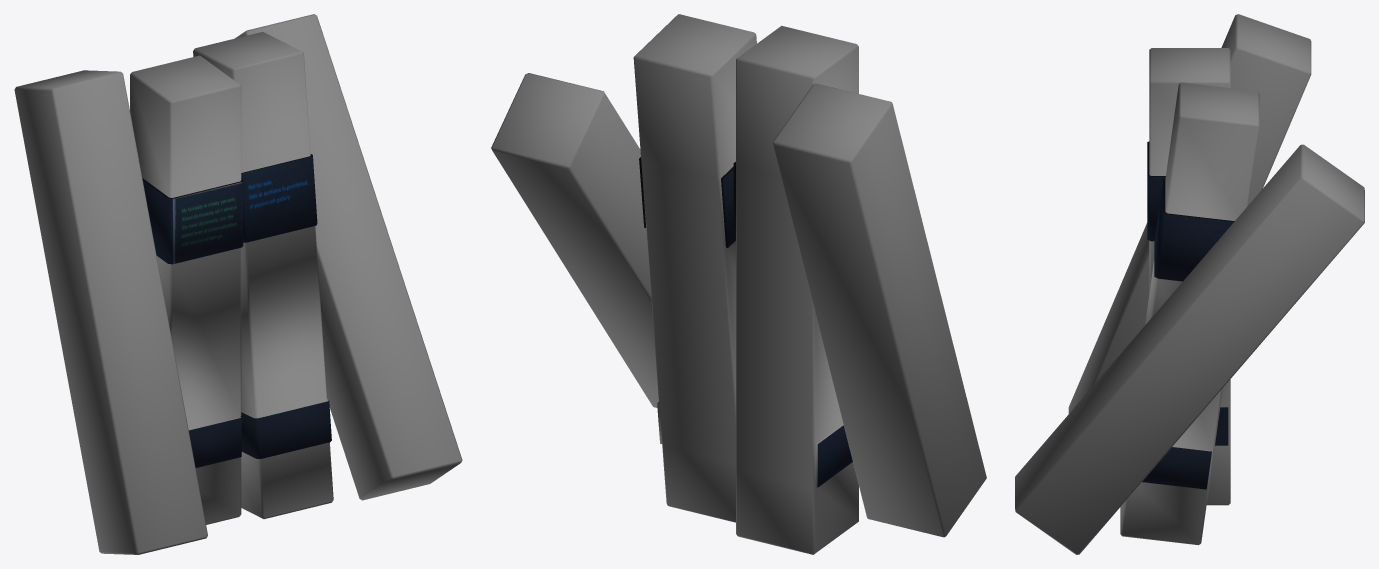
File: tars_my_version.glb
3 views of the same model, side by side, from view 1: azimuth 30°, elevation 25°; view 2: azimuth 150°, elevation 25°; view 3: azimuth 270°, elevation 25° (orthographic). The views are drawn at different scales.
Parts seen in each view (by area): view 1: 4_low.001; view 2: 4_low.001; view 3: 4_low.001.
Part boxes in pixels (box(x1,y1,x2,y2)): 4_low.001: box(14, 14, 462, 554); 4_low.001: box(491, 14, 986, 554); 4_low.001: box(1015, 14, 1364, 554).
Size of the model in its own units: 2.89 by 4.05 by 2.98.
Materials: 2 (1 with a texture image).
